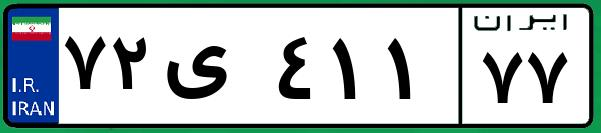1: (385, 28, 445, 110), (330, 28, 385, 110)
2: (110, 28, 158, 98)
4: (270, 28, 330, 110)
7: (57, 26, 110, 100), (475, 38, 525, 113), (525, 38, 570, 115)
ی: (158, 20, 270, 120)
